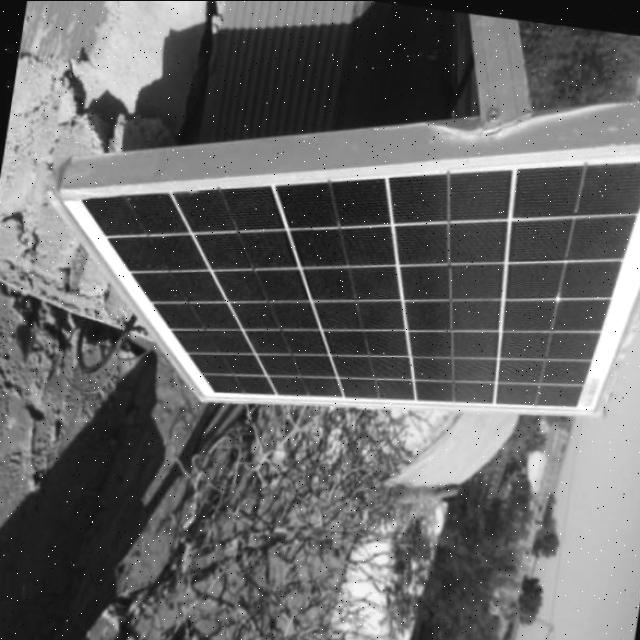Normal Solar Panel: (23, 56, 640, 466)
